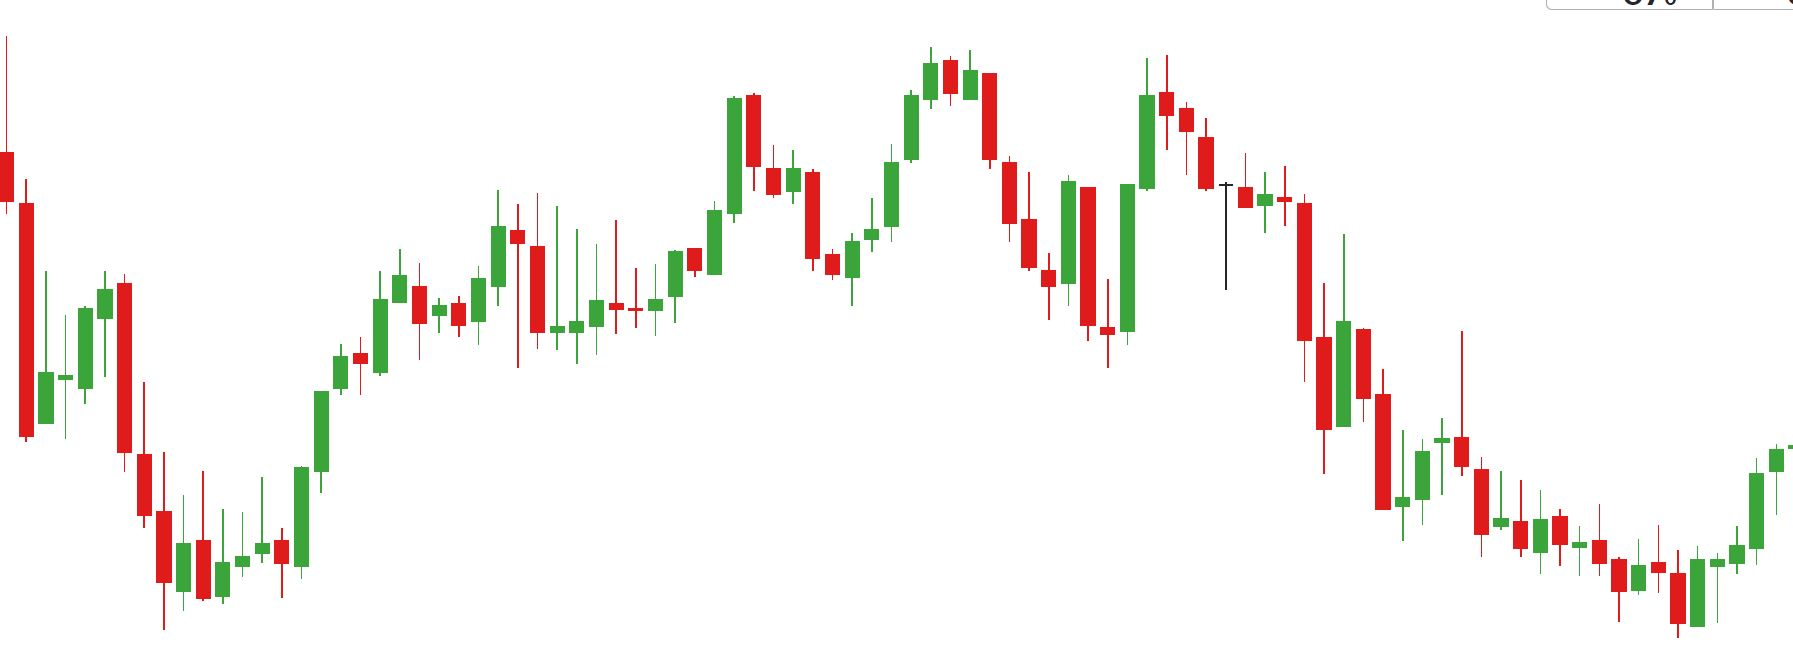sell: (722, 48, 961, 186)
